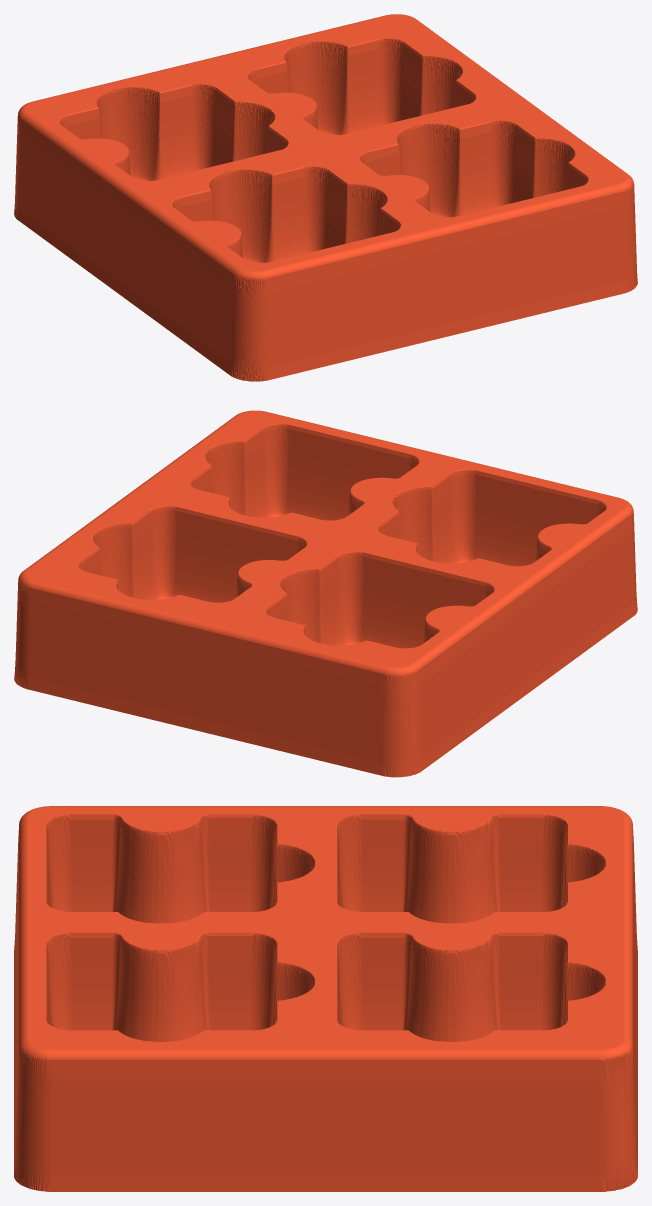
Rendered from mold.glb.
The picture shows the model from 3 angles, top to bottom: view 1: azimuth 30°, elevation 25°; view 2: azimuth 150°, elevation 25°; view 3: azimuth 270°, elevation 25°; orthographic projection. The views are drawn at different scales.
Visible parts, largest first — view 1: geometry_0; view 2: geometry_0; view 3: geometry_0.
Part boxes in pixels (box(x1,y1,x2,y2)): geometry_0: box(14, 14, 637, 381); geometry_0: box(14, 410, 637, 777); geometry_0: box(14, 806, 637, 1191).
Bounding box in the file's own units: 0.1443 × 0.036 × 0.1493.
